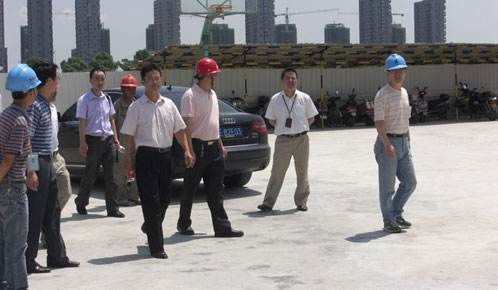blue: (6, 63, 38, 108), (382, 53, 409, 88)
none: (33, 62, 60, 99), (138, 61, 164, 95), (279, 65, 299, 91), (87, 66, 106, 90)
red: (191, 55, 219, 91), (118, 72, 138, 99)
